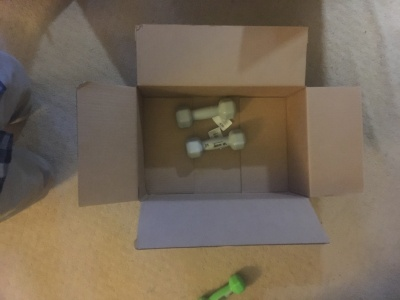innerbox: (136, 83, 310, 199)
outerbox: (76, 24, 364, 244)
product: (176, 101, 242, 157)
